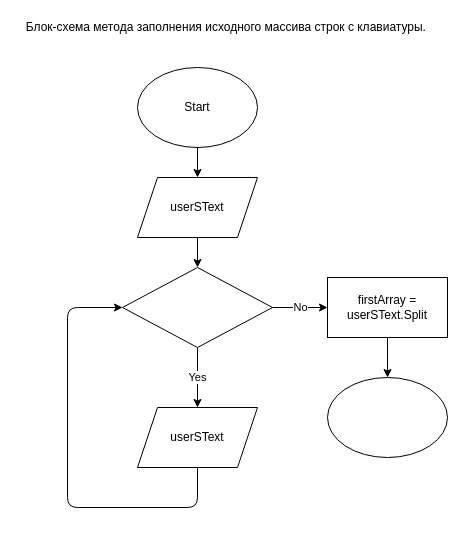
Some shapes in this 465 by 533 pixel diagram are drawn without their labels. Here are the shapes that lost their labels. From the top down, the centre of each, then its label:
the point at 197,307: userSText is NULL
the point at 387,417: return firstArray
